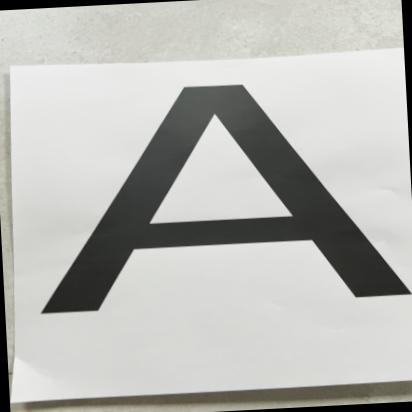seat: (52, 62, 412, 353)
